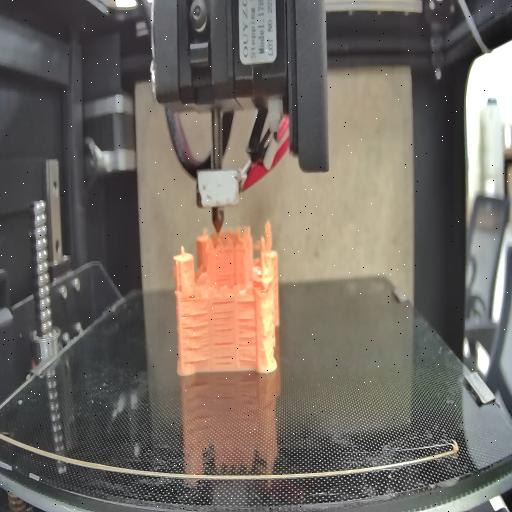cracks: (180, 310, 207, 364), (237, 316, 259, 362), (212, 301, 234, 333), (212, 338, 234, 364), (238, 293, 254, 309), (214, 270, 234, 280), (183, 290, 198, 302)
